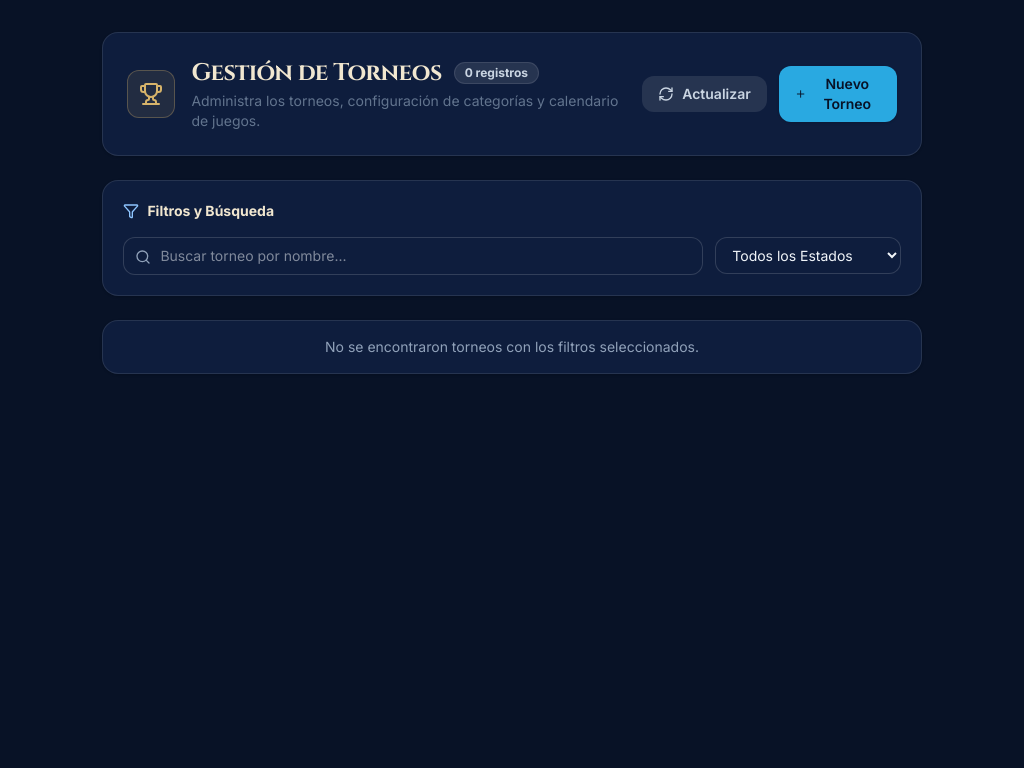
Test: TorneosAdmin - Fase 4 › debe abrir el modal al presionar Nuevo Torneo
Step 1. Click the button "Nuevo Torneo" → (838, 94), box [779,66,897,122]
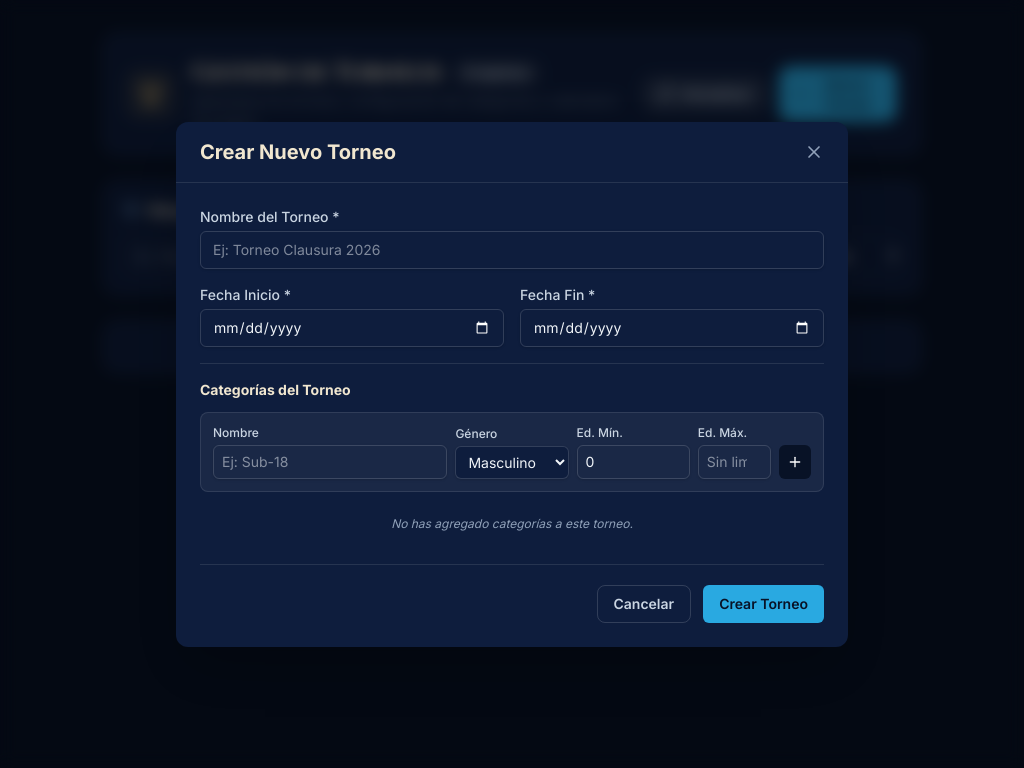
Expected: the field with placeholder "Ej: Torneo Clausura 2026" is shown, [200,230,824,268]
Expected: the button "Crear Torneo" is shown, [703,584,824,622]
